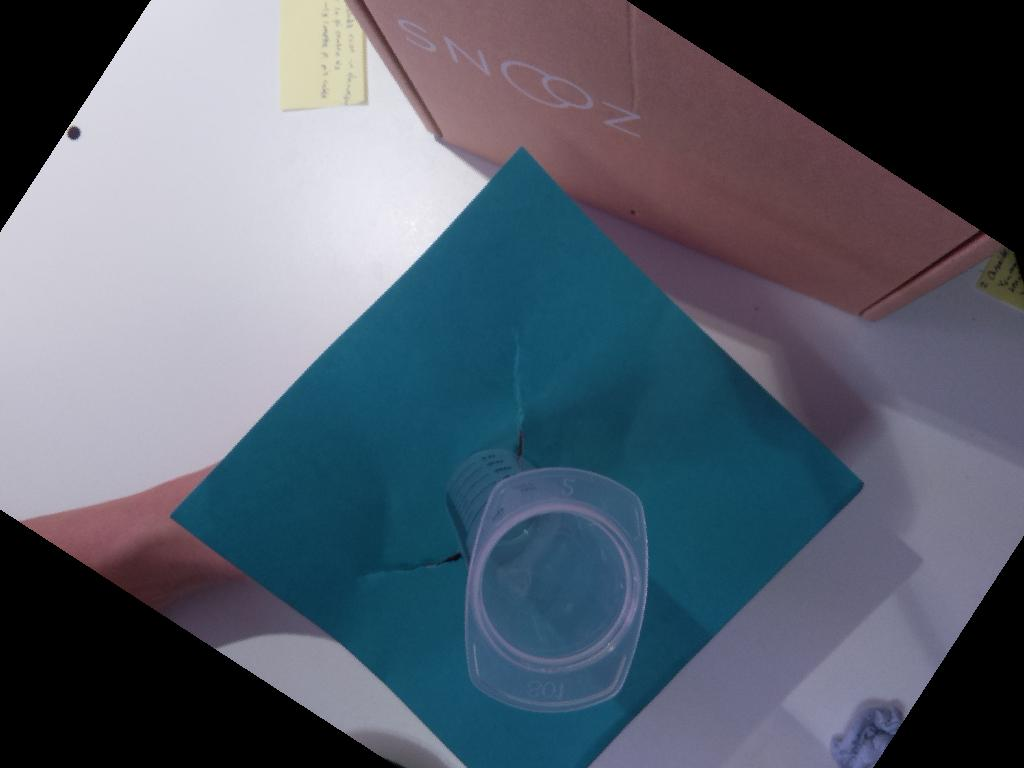clean: (464, 465, 649, 708)
